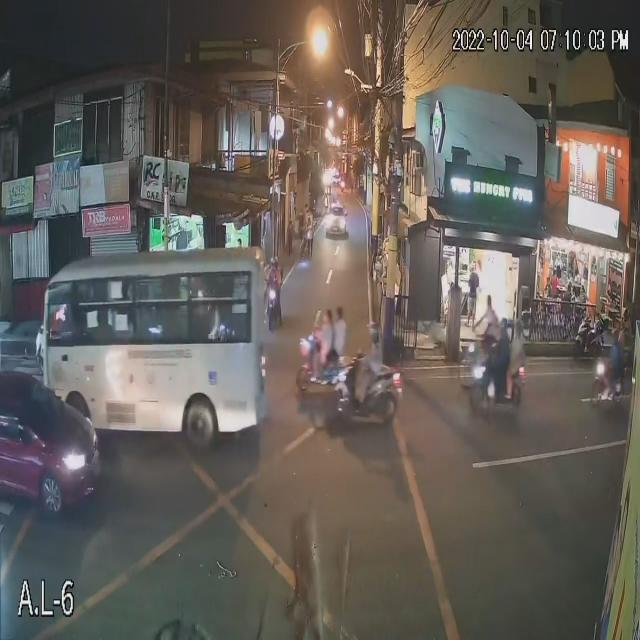helmet: (364, 319, 382, 343), (491, 316, 506, 338)
motorcycle: (326, 367, 405, 426), (469, 359, 527, 416), (589, 352, 632, 410), (574, 322, 611, 356), (263, 282, 282, 329)
rider: (347, 343, 384, 408), (599, 324, 627, 401), (492, 333, 510, 408), (507, 337, 525, 402), (263, 255, 282, 306)
